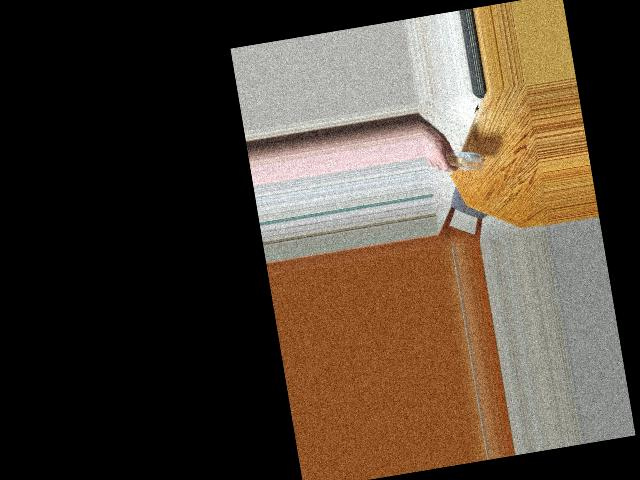cheese: (444, 140, 482, 176)
